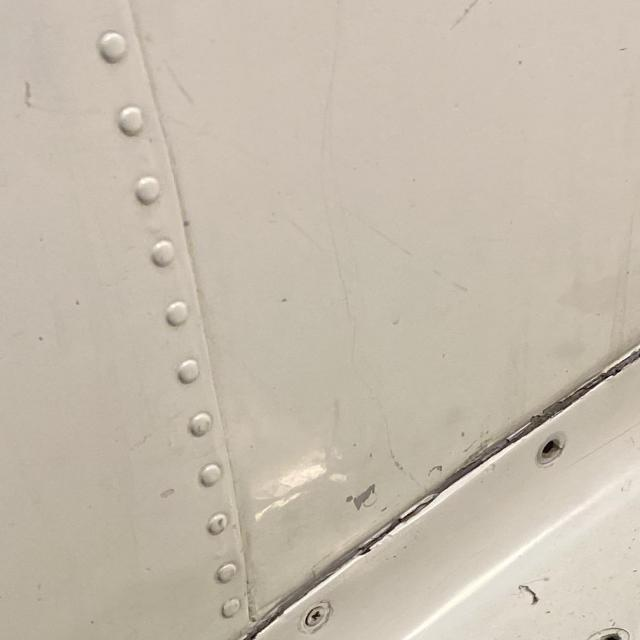Crack: (630, 335, 640, 345)
Missing-head: (537, 433, 566, 463), (586, 626, 627, 640)
Paint-off: (347, 482, 377, 506)
